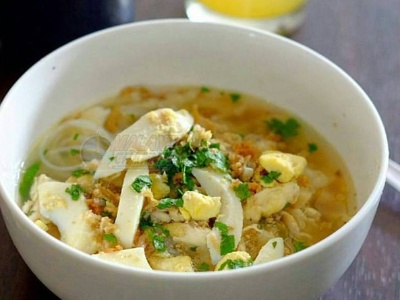soto: (36, 84, 348, 258)
